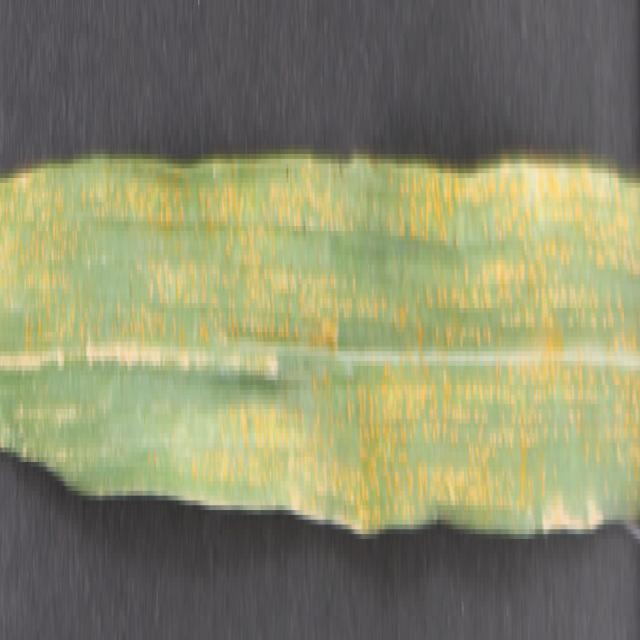leaf rust: (0, 173, 640, 534)
